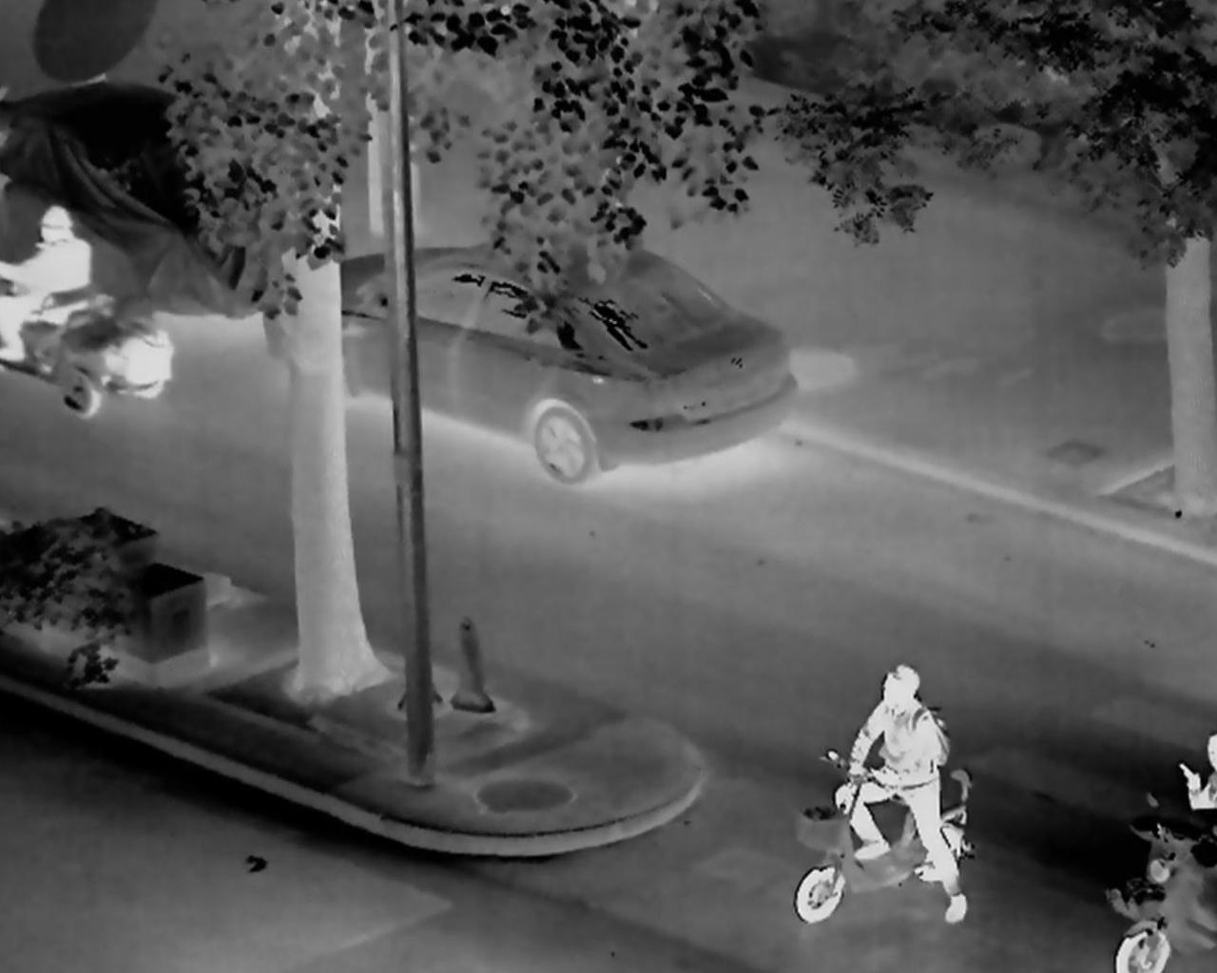person: (834, 665, 968, 922), (1174, 729, 1217, 810)
